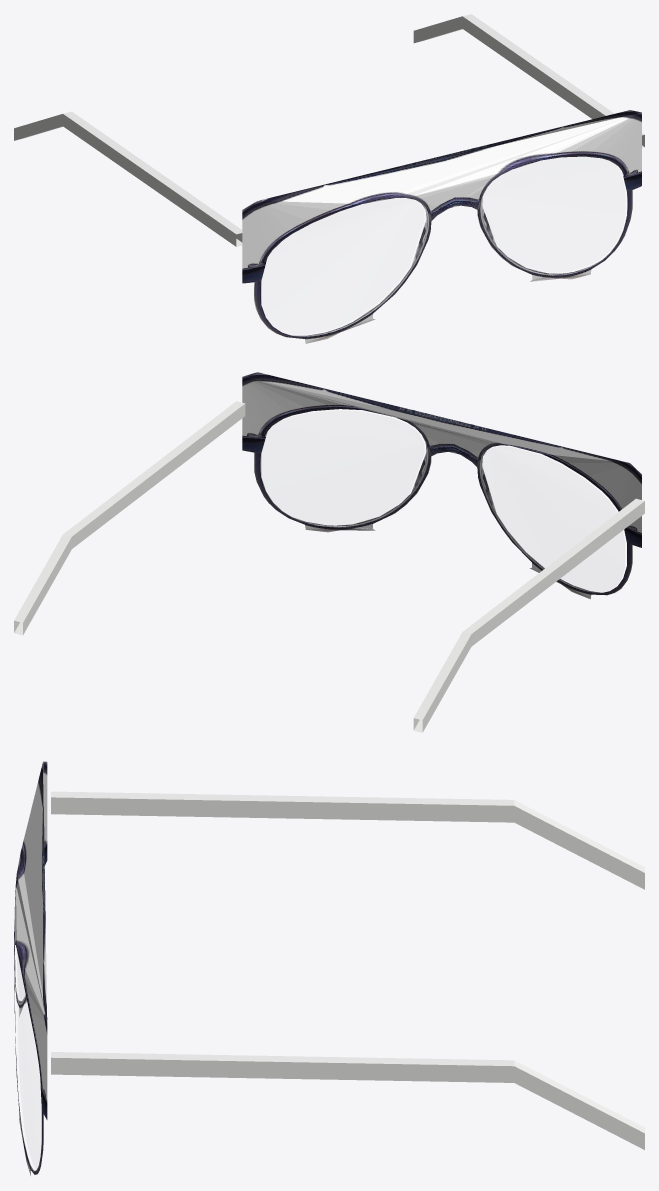
Rendered from gothamstyle-stainless-34_matte-navy.glb.
The picture shows the model from 3 angles, top to bottom: view 1: azimuth 30°, elevation 25°; view 2: azimuth 150°, elevation 25°; view 3: azimuth 270°, elevation 25°; orthographic projection. The views are drawn at different scales.
Parts seen in each view (by area): view 1: frame_front, temple_viewer_left, temple_viewer_right; view 2: frame_front, temple_viewer_left, temple_viewer_right; view 3: temple_viewer_left, temple_viewer_right, frame_front.
Part boxes in pixels (box(x1,y1,x2,y2)): frame_front: box(242, 110, 641, 343); temple_viewer_left: box(14, 111, 242, 246); temple_viewer_right: box(413, 14, 644, 147); frame_front: box(242, 372, 641, 599); temple_viewer_left: box(413, 498, 644, 732); temple_viewer_right: box(14, 401, 245, 635); temple_viewer_left: box(51, 791, 644, 889); temple_viewer_right: box(51, 1052, 644, 1149); frame_front: box(14, 761, 47, 1175).
Bounding box in the file's own units: 0.1358 × 0.0478 × 0.136.
3 materials, 2 textured.
